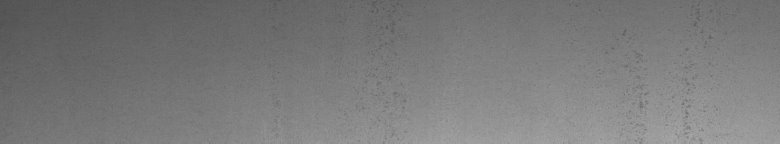ib: (617, 30, 714, 136)
